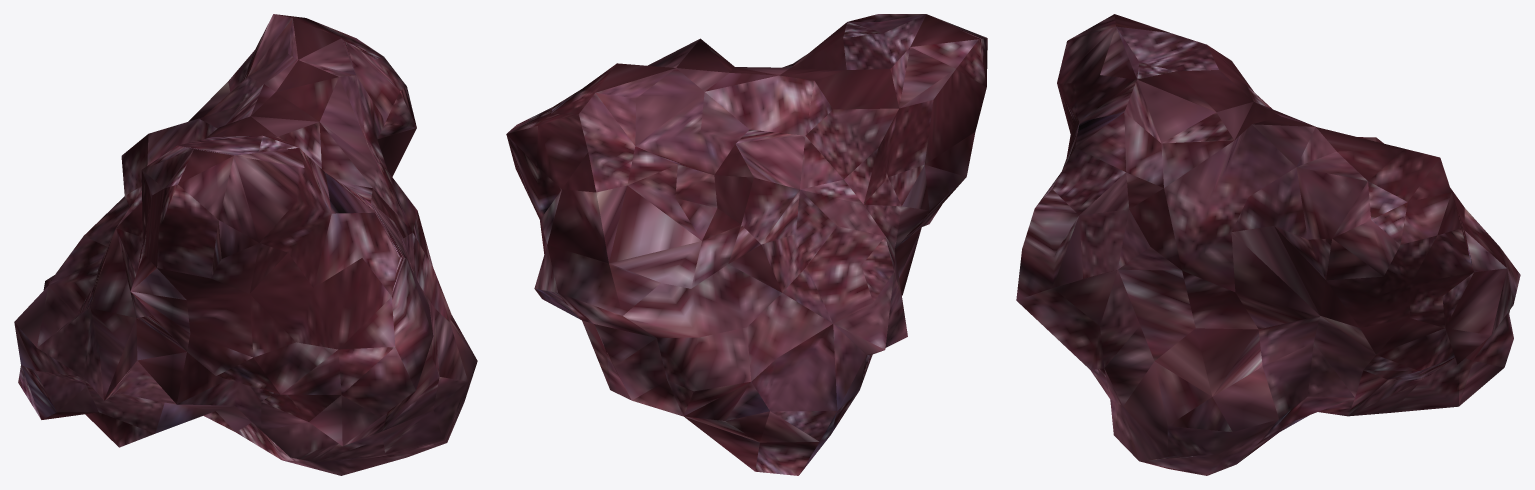
The model's file is AuthenticMeatChunk01.fbx.
The picture shows the model from 3 angles, left to right: view 1: azimuth 30°, elevation 25°; view 2: azimuth 150°, elevation 25°; view 3: azimuth 270°, elevation 25°; orthographic projection. The views are drawn at different scales.
Visible parts, largest first — view 1: Meat Chunk; view 2: Meat Chunk; view 3: Meat Chunk.
Boxes of the visible parts, <box> form: Meat Chunk: <box>14,14,477,475</box>; Meat Chunk: <box>506,14,987,475</box>; Meat Chunk: <box>1016,14,1520,475</box>.
Size of the model in its own units: 0.0841 by 0.0809 by 0.0994.
